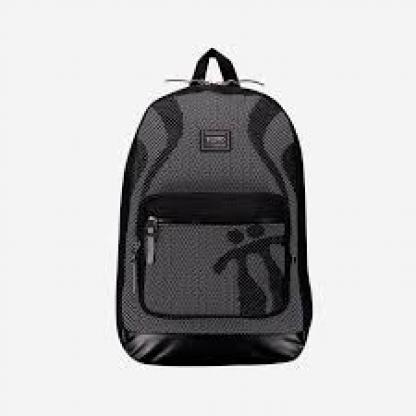morral: (76, 39, 346, 377)
